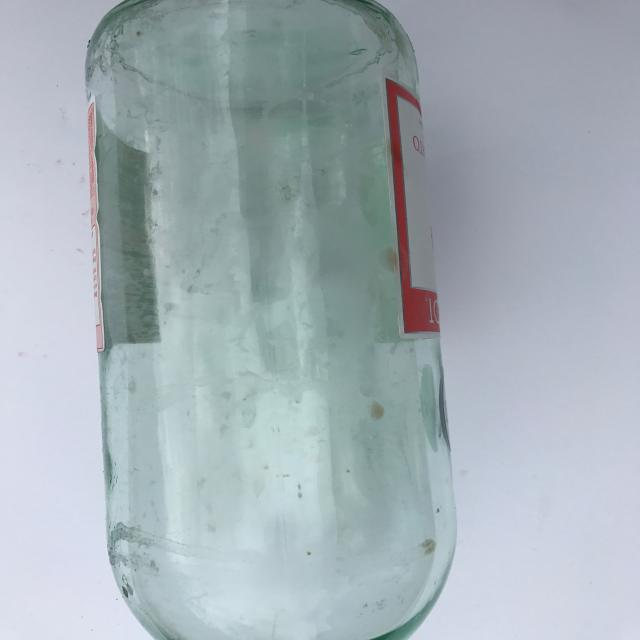glass: (80, 0, 454, 640)
